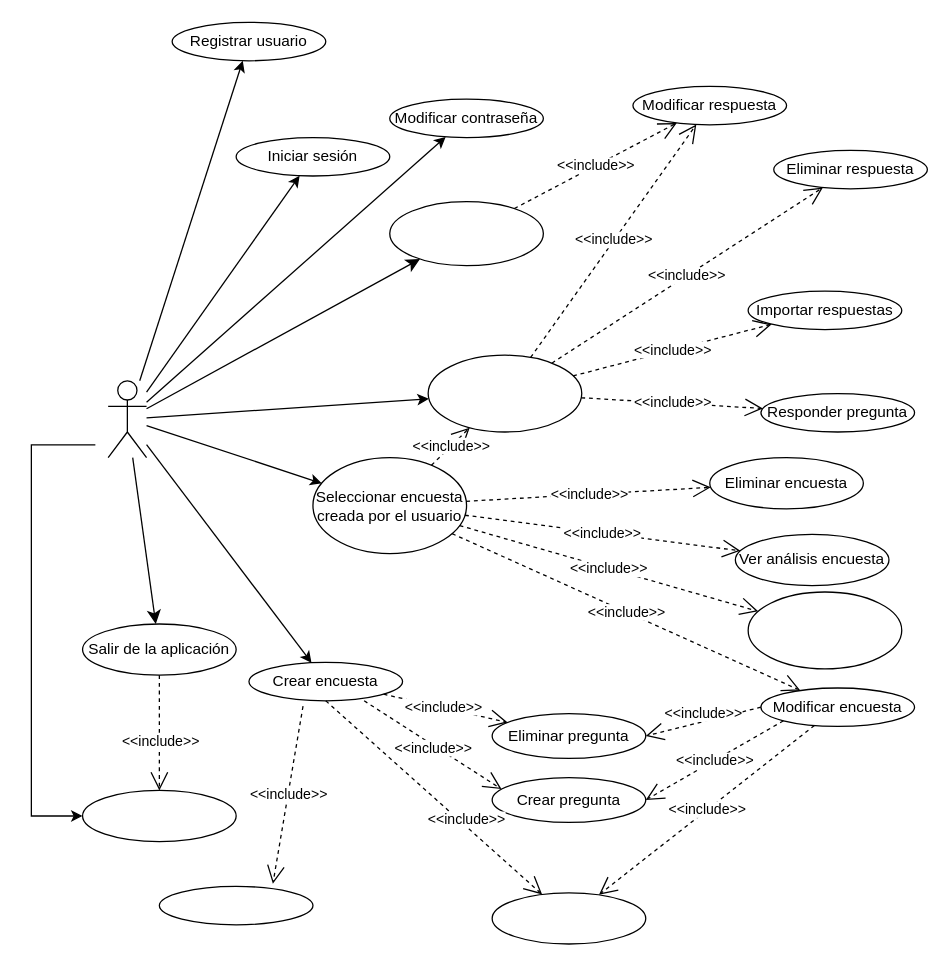
Image size: 950x977. Some labels were removed from this diagram. Here are the shapes that lost their labels. From the top down, the centre of each, then its label:
point (465, 233): Acceder a encuestas respondidas
point (504, 393): Seleccionar encuesta para responder
point (127, 419): Usuario
point (824, 630): Ver respuestas de la encuesta
point (158, 815): Cerrar Sesión
point (235, 905): Importar encuesta
point (568, 918): Modificar pregunta
